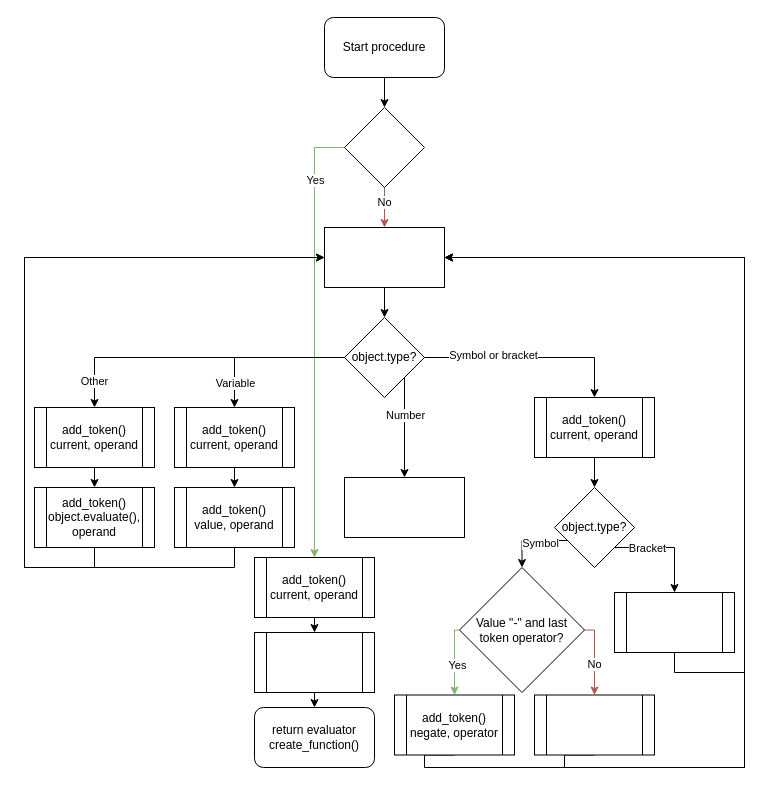
Some shapes in this 770 by 793 pixel diagram are drawn without their labels. Each missing label, with the centre of its shape:
"add_token() value, bracket" goes at (674,622).
"add_token() value, operator" goes at (594,724).
"End item reached?" goes at (384,147).
"Iterate to next object in list self.objects" goes at (384,257).
"parser.convert() tokens" goes at (314,662).
"token += object.value" goes at (404,507).
